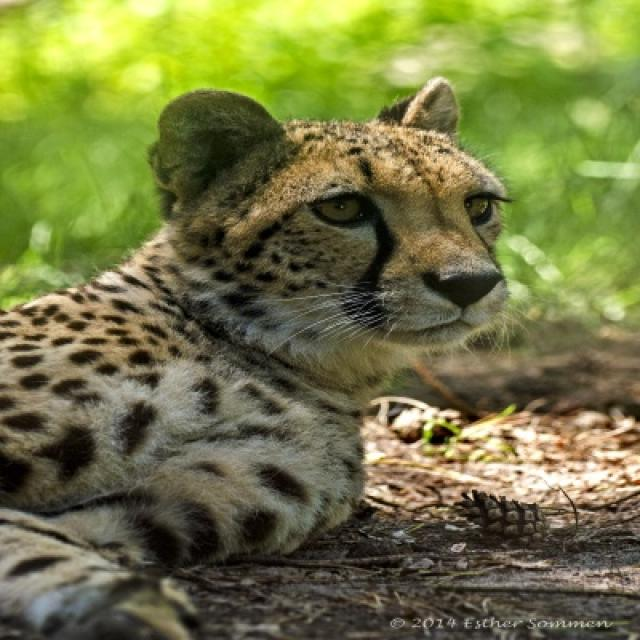Cheetah: (0, 80, 510, 638)
